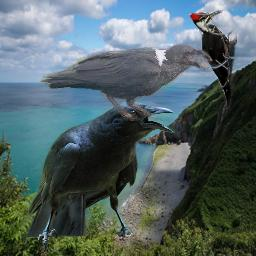Crow: (23, 101, 175, 252), (39, 42, 213, 122)
Woodpecker: (189, 9, 237, 112)
